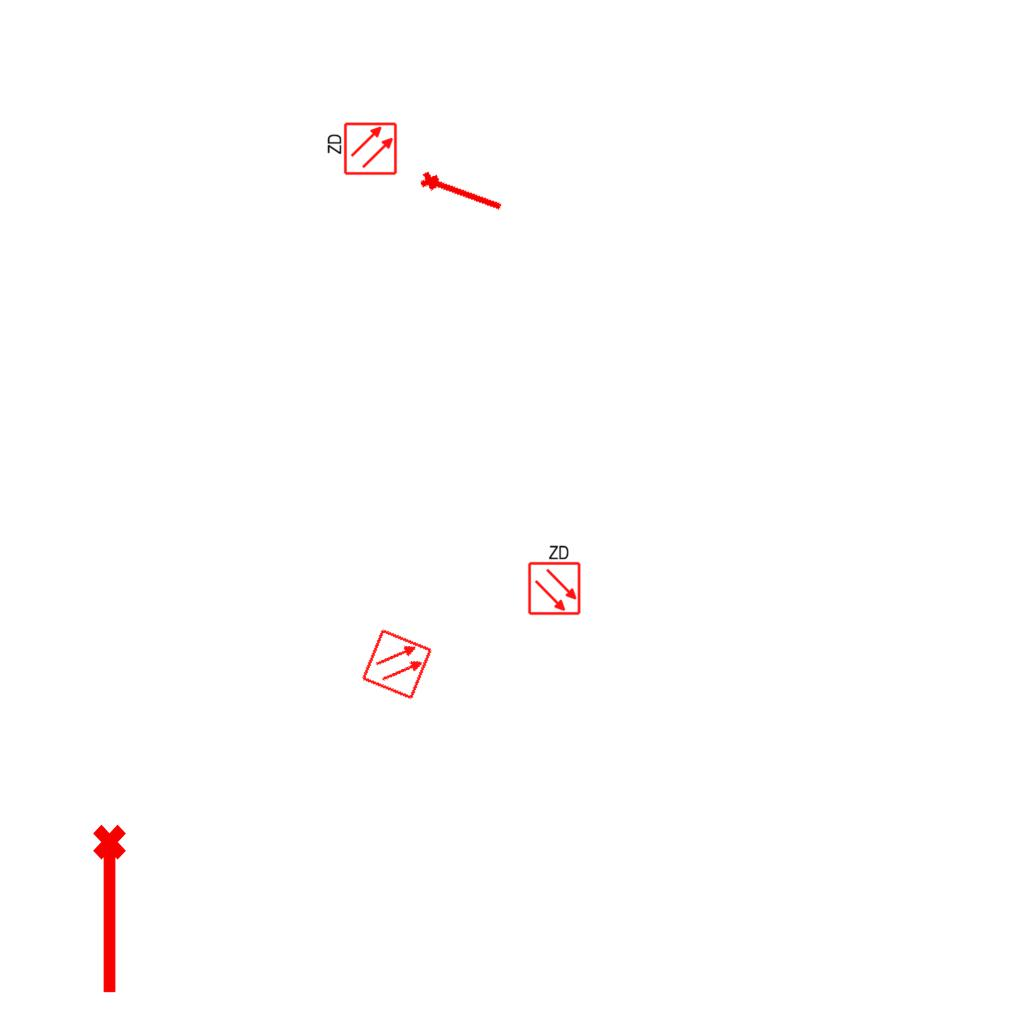ASR_Ansaugoeffnung: (89, 822, 135, 998), (416, 165, 508, 218)
RMO_Rauchmelder_optischer: (360, 627, 434, 701)
ZD_Melder_in_Zwischendecke_mit_Revisionsoeffnung_mind_40_x_40_cm: (324, 121, 398, 178), (525, 542, 582, 616)
